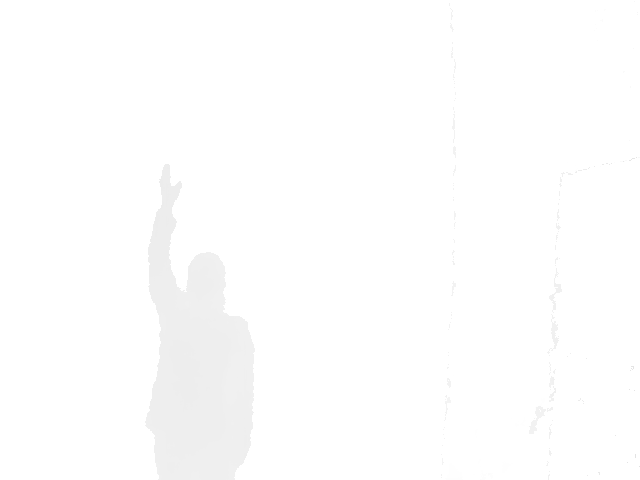hand: (157, 162, 183, 208)
head: (185, 251, 227, 295)
person: (143, 162, 256, 480)
